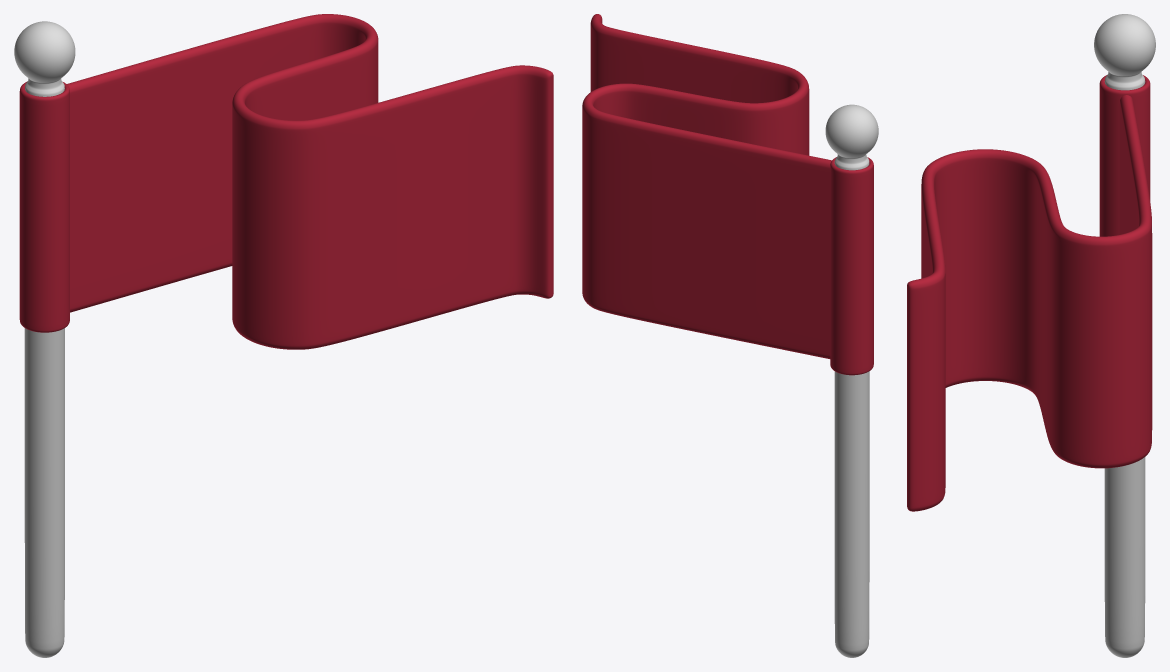
File: flag.fbx
The picture shows the model from 3 angles, left to right: view 1: azimuth 30°, elevation 25°; view 2: azimuth 150°, elevation 25°; view 3: azimuth 270°, elevation 25°; orthographic projection. The views are drawn at different scales.
Visible parts, largest first — view 1: Cylinder.005; view 2: Cylinder.005; view 3: Cylinder.005.
Boxes of the visible parts, box(x1,y1,x2,y2) form: Cylinder.005: box(14, 14, 553, 657); Cylinder.005: box(582, 14, 878, 657); Cylinder.005: box(907, 14, 1155, 657).
Size of the model in its own units: 136 by 191 by 67.32.
